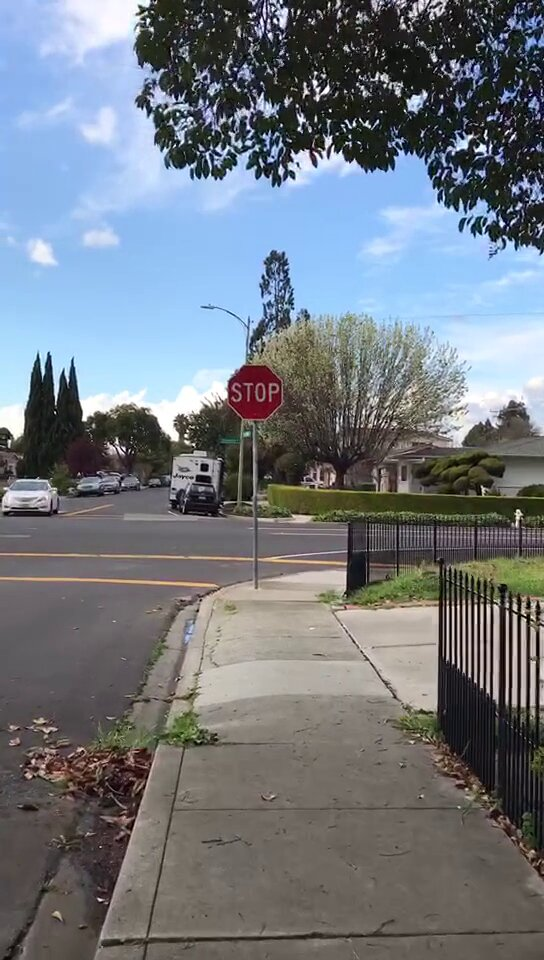stop_sign: (228, 367, 284, 419)
